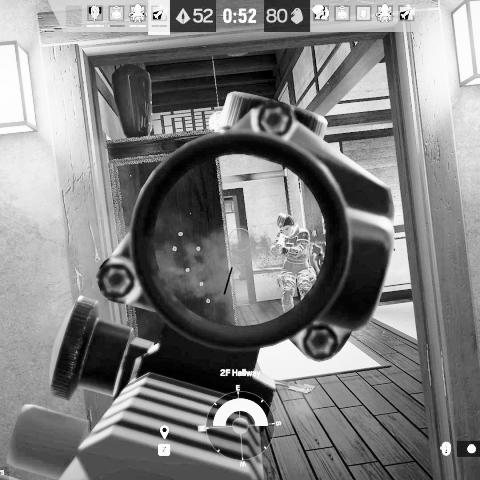Character: (269, 215, 320, 314)
Friend_label: (301, 229, 327, 245)
Head: (276, 214, 296, 236)
